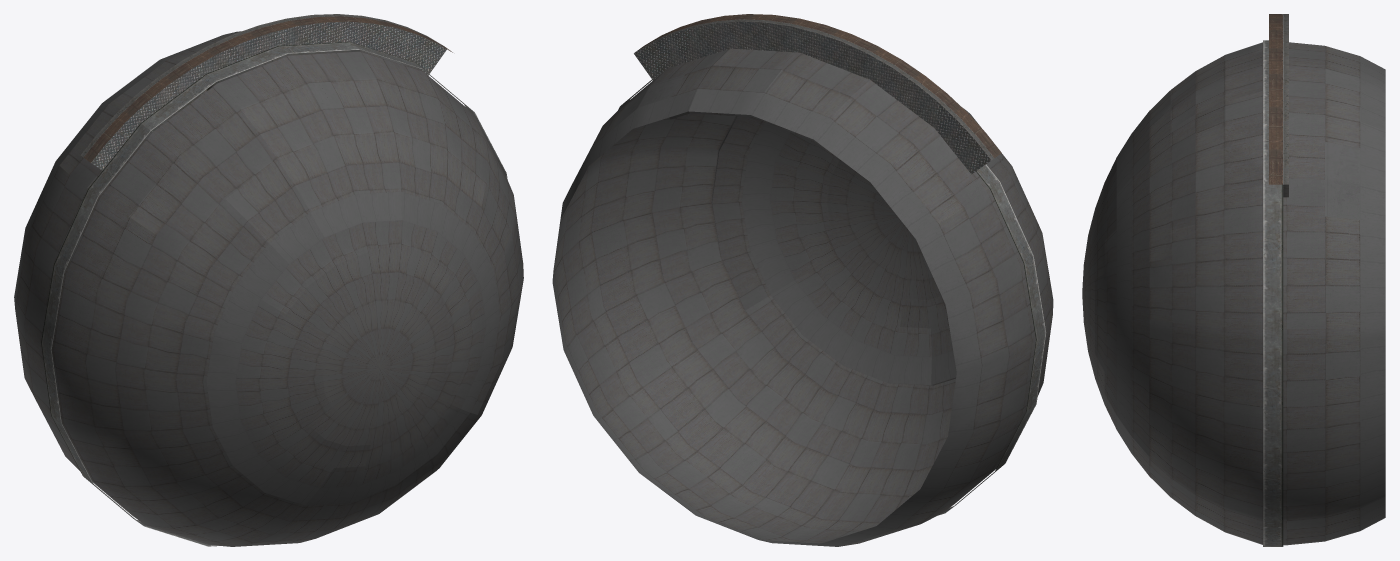
File: fxanim_mp_nuked2025_dome_mod_LOD0.obj
3 renders of one model, left to right at view 1: azimuth 30°, elevation 25°; view 2: azimuth 150°, elevation 25°; view 3: azimuth 270°, elevation 25°, orthographic. The views are drawn at different scales.
Parts seen in each view (by area): view 1: mtl_nt_2025_dome_metal, metal_aluminum01, rus_art_metal_black_trim, metal_floor_treadplate_used, pb_railing_sheet_01; view 2: mtl_nt_2025_dome_metal, metal_aluminum01, metal_floor_treadplate_used, rus_art_metal_black_trim, pb_railing_sheet_01; view 3: mtl_nt_2025_dome_metal, metal_aluminum01, rus_art_metal_black_trim, pb_railing_sheet_01.
Boxes of the visible parts, <box> form: mtl_nt_2025_dome_metal: <box>15,31,523,546</box>; metal_aluminum01: <box>14,32,499,505</box>; rus_art_metal_black_trim: <box>41,14,507,546</box>; metal_floor_treadplate_used: <box>91,21,446,170</box>; pb_railing_sheet_01: <box>83,16,452,162</box>; mtl_nt_2025_dome_metal: <box>554,48,1053,546</box>; metal_aluminum01: <box>552,71,981,546</box>; metal_floor_treadplate_used: <box>634,21,991,174</box>; rus_art_metal_black_trim: <box>618,19,1046,515</box>; pb_railing_sheet_01: <box>639,14,1001,157</box>; mtl_nt_2025_dome_metal: <box>1082,42,1360,545</box>; metal_aluminum01: <box>1116,56,1385,530</box>; rus_art_metal_black_trim: <box>1263,14,1288,546</box>; pb_railing_sheet_01: <box>1269,14,1282,184</box>.
Bounding box in the file's own units: 3526 × 3688 × 2092.
